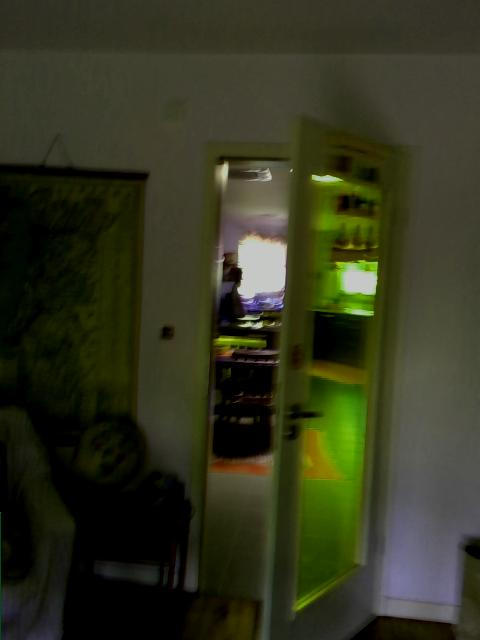semi_door: (192, 111, 410, 639)
